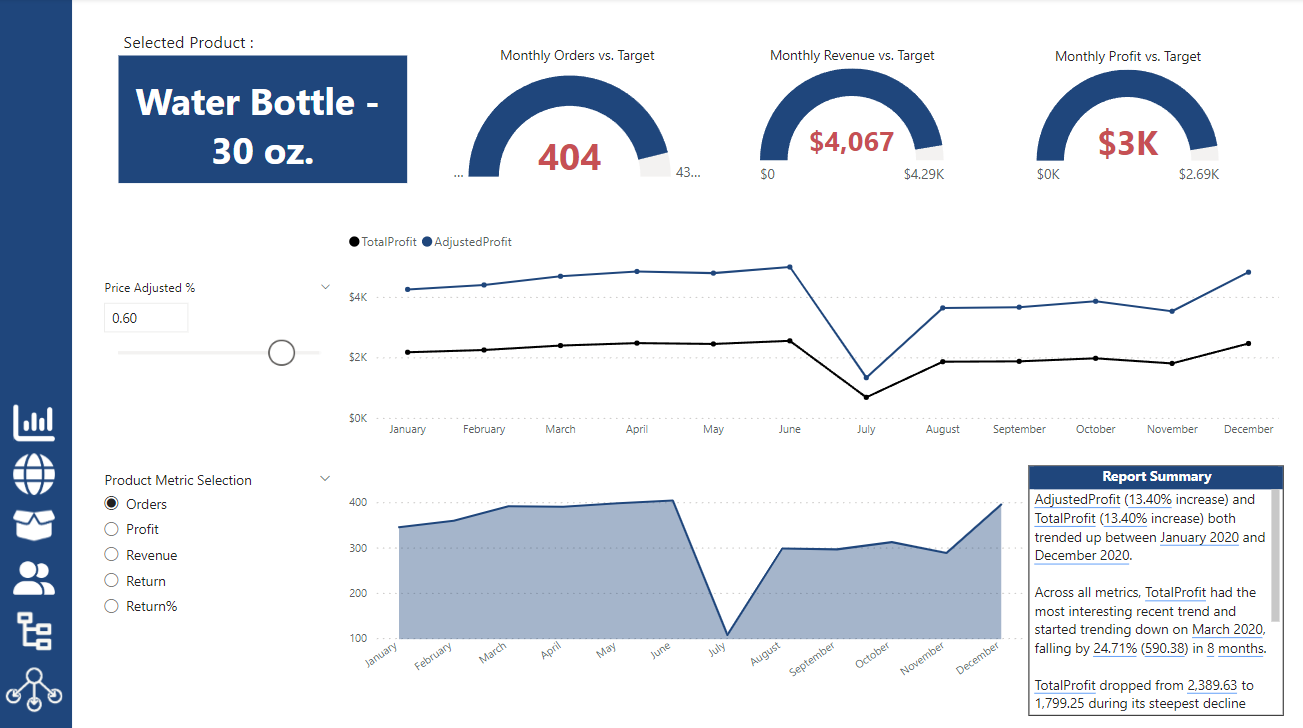

The dashboard page shown, as its layout file describes it:
{"tool":"powerbi","page":{"name":"Product Detail","canvas":[1280,720],"ordinal":2},"visuals":[{"type":"shape","title":"Product Nav Background","box":[0,0,74.6,720],"z":0},{"type":"actionButton","box":[0,391.3,74.6,48.9],"z":0,"group":"g1"},{"type":"gauge","title":"Monthly Orders vs. Target","fields":{"Y":["Measure Table.TotalOrders"],"MaxValue":["Measure Table.OrderTarget"]},"box":[440.1,46.5,256.7,145.5],"z":1000},{"type":"actionButton","box":[0,441.7,74.6,48.9],"z":1000,"group":"g1"},{"type":"gauge","title":"Monthly Revenue vs. Target","fields":{"Y":["Measure Table.TotalRevenue"],"MaxValue":["Measure Table.RevenueTarget"]},"box":[709.8,46,256.4,145],"z":2000},{"type":"actionButton","box":[0,492.1,74.6,48.9],"z":2000,"group":"g1"},{"type":"gauge","title":"Monthly Profit vs. Target","fields":{"MaxValue":["Measure Table.ProfitTarget"],"Y":["Measure Table.TotalProfit"]},"box":[979.2,47.7,255.5,144.2],"z":3000},{"type":"actionButton","box":[0,592.8,74.6,52.6],"z":3000,"group":"g1"},{"type":"lineChart","title":"Profit Trending","fields":{"Category":["Calendar Lookup.Date.Variation.Date Hierarchy.Year","Calendar Lookup.Date.Variation.Date Hierarchy.Month"],"Y":["Measure Table.TotalProfit","Measure Table.AdjustedProfit"]},"box":[339.9,226.2,920.8,220.1],"z":4000},{"type":"actionButton","box":[0,646.9,74.6,63.6],"z":4000,"group":"g1"},{"type":"areaChart","title":"Returns Trending","fields":{"Y":["Measure Table.TotalOrders"],"Category":["Calendar Lookup.Date.Variation.Date Hierarchy.Year","Calendar Lookup.Date.Variation.Date Hierarchy.Quarter","Calendar Lookup.Date.Variation.Date Hierarchy.Month"]},"box":[339.9,457.3,670.1,220.1],"z":5000},{"type":"actionButton","box":[0,542.4,74.6,48.9],"z":5000,"group":"g1"},{"type":"slicer","fields":{"Values":["Product Lookup.ProductName"]},"box":[102.7,138.2,282.5,80.7],"z":6000},{"type":"textbox","box":[102.5,19.6,229.8,40.3],"z":7000},{"type":"slicer","fields":{"Values":["Price Adjusted.Price Adjusted"]},"box":[92.9,270.2,246.9,117.4],"z":8000},{"type":"slicer","fields":{"Values":["Product Metric Selection .Product Metric Selection "]},"box":[92.9,457.3,247,220.1],"z":9000},{"type":"textbox","title":"Report Summary","box":[1010.1,457.3,249.5,244.6],"z":10000},{"type":"group","id":"g1","title":"Group 1","box":[0,391.3,74.6,319.2],"z":11000},{"type":"slicer","fields":{"Values":["Product Categories Lookup.CategoryName"]},"box":[102.5,51.4,282.5,80.7],"z":12000}]}

Visuals, with their boxes in screenshot pixels (x1, y1, x2, y2), scaled from the page's 1280x720 canvas onto the 1303x728 screenshot:
"Product Nav Background" shape: detection(0, 0, 76, 727)
actionButton: detection(0, 396, 76, 445)
"Monthly Orders vs. Target" gauge: detection(448, 47, 709, 194)
actionButton: detection(0, 447, 76, 496)
"Monthly Revenue vs. Target" gauge: detection(723, 47, 984, 193)
actionButton: detection(0, 498, 76, 547)
"Monthly Profit vs. Target" gauge: detection(997, 48, 1257, 194)
actionButton: detection(0, 599, 76, 653)
"Profit Trending" lineChart: detection(346, 229, 1283, 451)
actionButton: detection(0, 654, 76, 718)
"Returns Trending" areaChart: detection(346, 462, 1028, 685)
actionButton: detection(0, 548, 76, 598)
slicer - Product Lookup.ProductName: detection(105, 140, 392, 221)
textbox: detection(104, 20, 338, 61)
slicer - Price Adjusted.Price Adjusted: detection(95, 273, 346, 392)
slicer - Product Metric Selection .Product Metric Selection : detection(95, 462, 346, 685)
"Report Summary" textbox: detection(1028, 462, 1282, 710)
"Group 1" group: detection(0, 396, 76, 718)
slicer - Product Categories Lookup.CategoryName: detection(104, 52, 392, 134)
